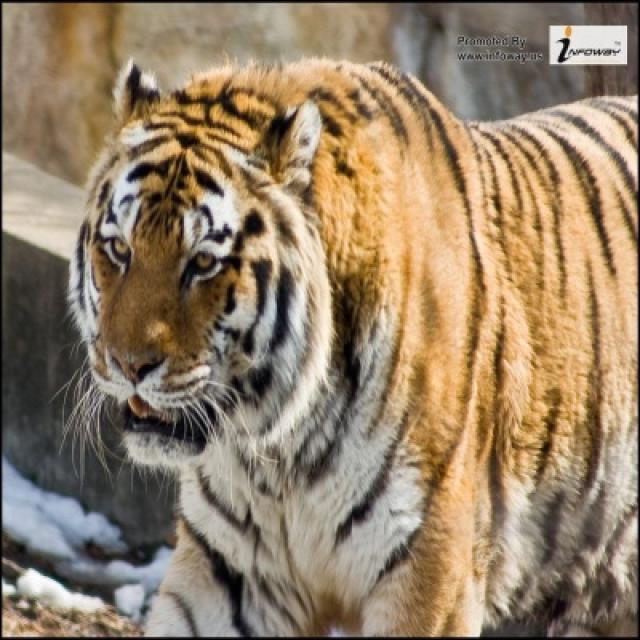Tiger: (65, 53, 638, 638)
